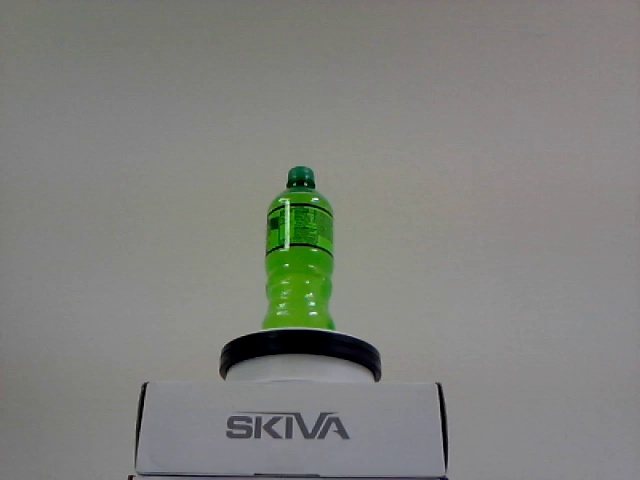botolplastik: (266, 166, 333, 332)
